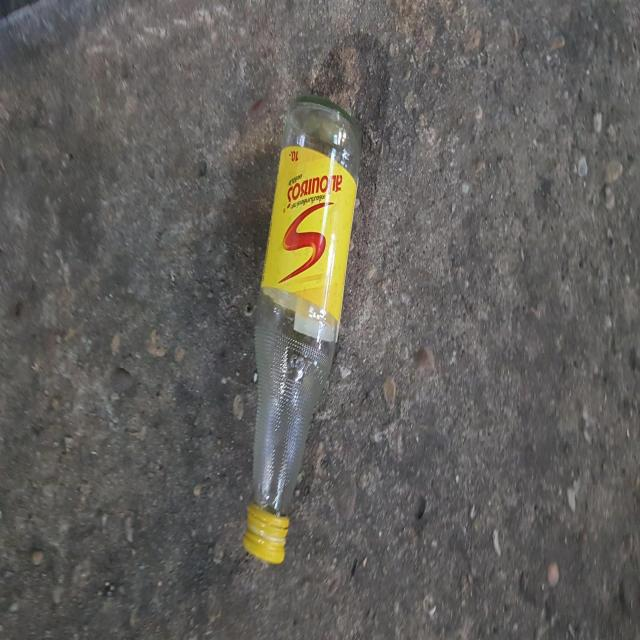glass: (244, 95, 361, 564)
